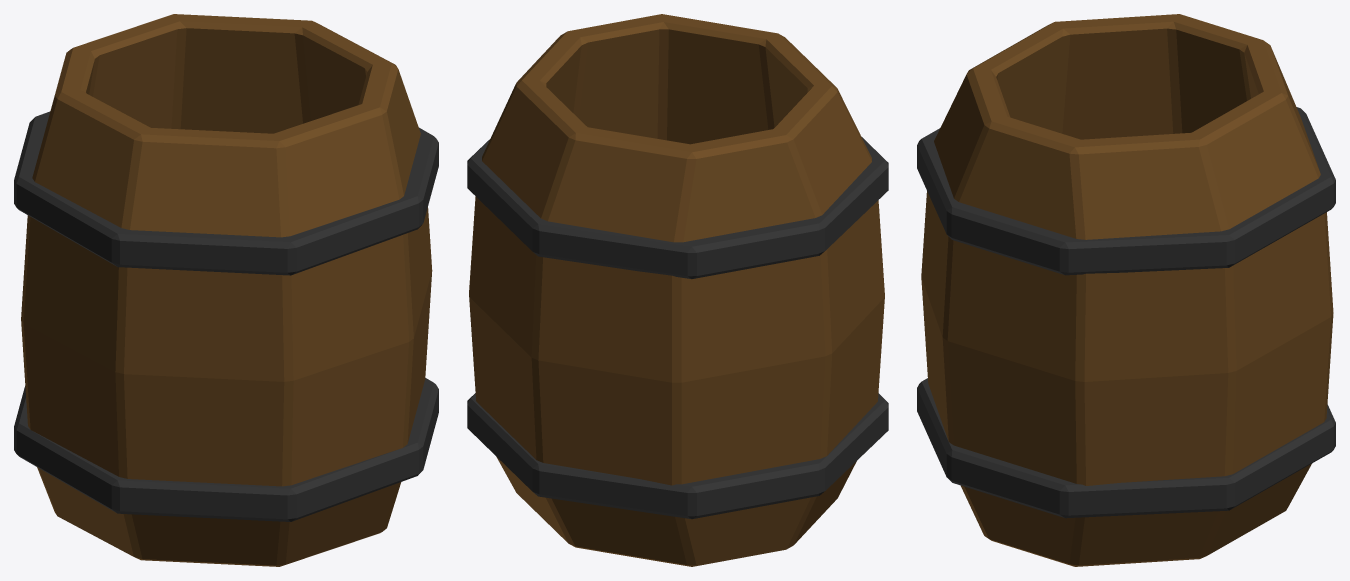
Rendered from Barrel01.fbx.
3 views of the same model, side by side, from view 1: azimuth 30°, elevation 25°; view 2: azimuth 150°, elevation 25°; view 3: azimuth 270°, elevation 25° (orthographic). The views are drawn at different scales.
Parts seen in each view (by area): view 1: Barrel.004; view 2: Barrel.004; view 3: Barrel.004.
Boxes of the visible parts, x1,y1,x2,y2 form: Barrel.004: [14, 14, 438, 566]; Barrel.004: [467, 14, 888, 566]; Barrel.004: [917, 14, 1335, 566].
Size of the model in its own units: 217 by 244 by 221.
